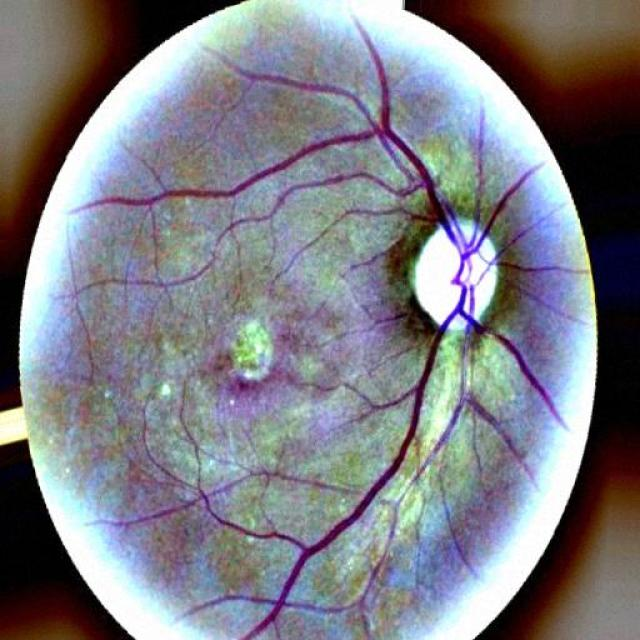Macula: (211, 336, 287, 401)
Nerves: (100, 36, 470, 633)
Optic Disk: (407, 201, 501, 337)
